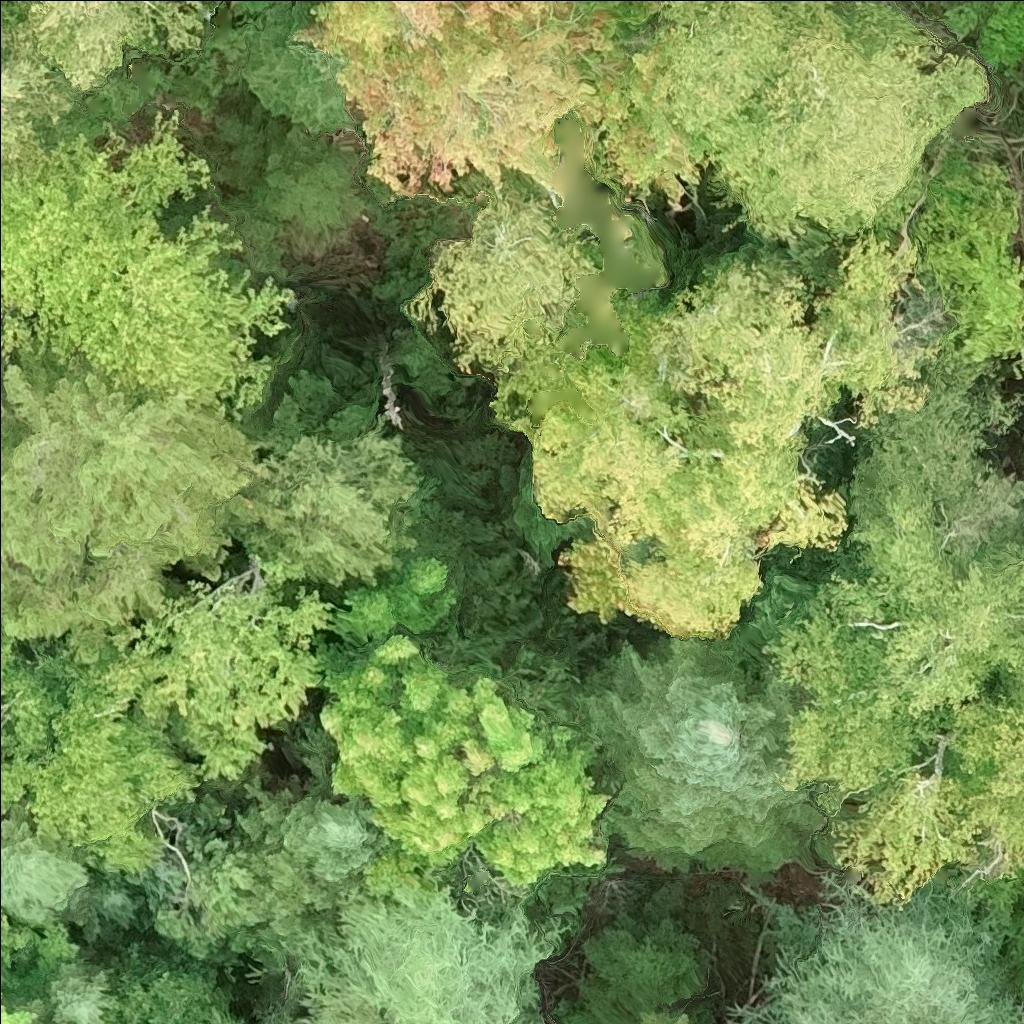crown: (538, 241, 946, 627), (741, 407, 1023, 810), (319, 558, 611, 888), (0, 110, 295, 428), (646, 0, 989, 246), (297, 0, 697, 208), (0, 359, 253, 655), (587, 640, 810, 869), (405, 174, 601, 418), (109, 573, 336, 779), (732, 870, 1023, 1023), (834, 698, 1023, 904), (26, 665, 202, 876), (304, 902, 570, 1023), (229, 434, 423, 588), (926, 162, 1023, 366), (6, 0, 206, 84), (0, 43, 93, 167), (0, 823, 95, 934), (0, 617, 52, 814), (280, 795, 393, 883), (0, 914, 79, 1023), (0, 0, 35, 57), (1012, 900, 1023, 1007), (638, 1006, 695, 1023), (878, 0, 895, 2)
